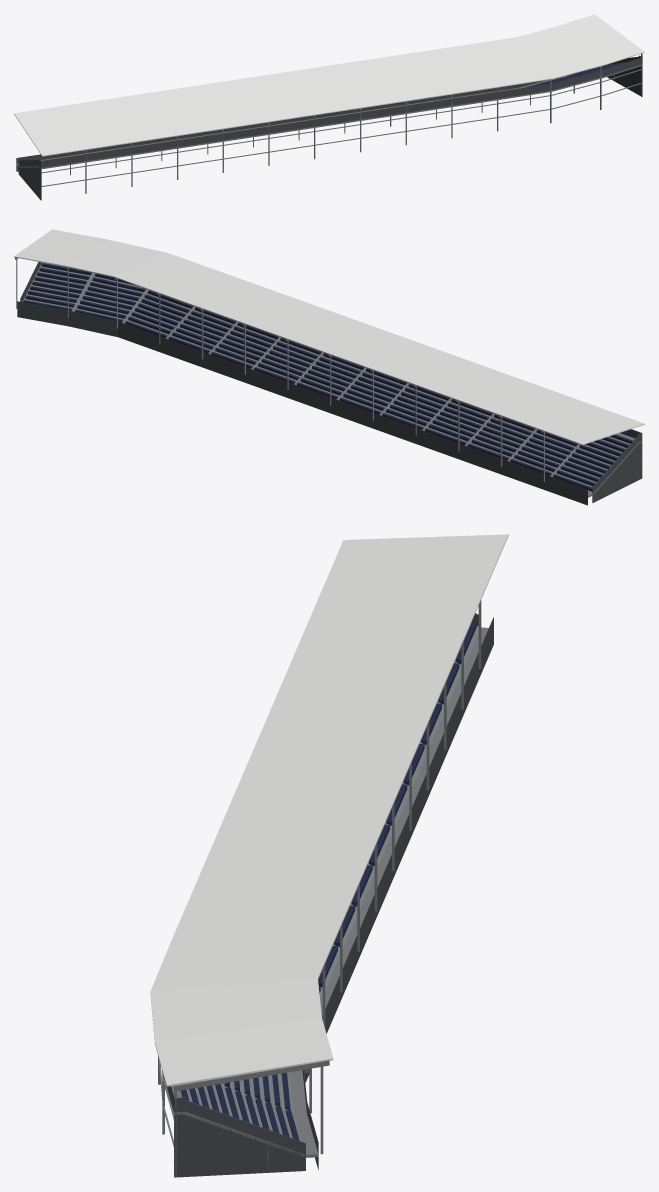
The model's file is sil_stand_int_paddock.glb.
3 views of the same model, one above another, from view 1: azimuth 30°, elevation 25°; view 2: azimuth 150°, elevation 25°; view 3: azimuth 270°, elevation 25° (orthographic). The views are drawn at different scales.
Parts seen in each view (by area): view 1: silverstone-int-paddock; view 2: silverstone-int-paddock; view 3: silverstone-int-paddock.
Boxes of the visible parts, x1=… form: silverstone-int-paddock: x1=14, y1=14, x2=644, y2=200; silverstone-int-paddock: x1=14, y1=229, x2=644, y2=505; silverstone-int-paddock: x1=150, y1=534, x2=508, y2=1177.
Size of the model in its own units: 102 by 9.72 by 28.39.
